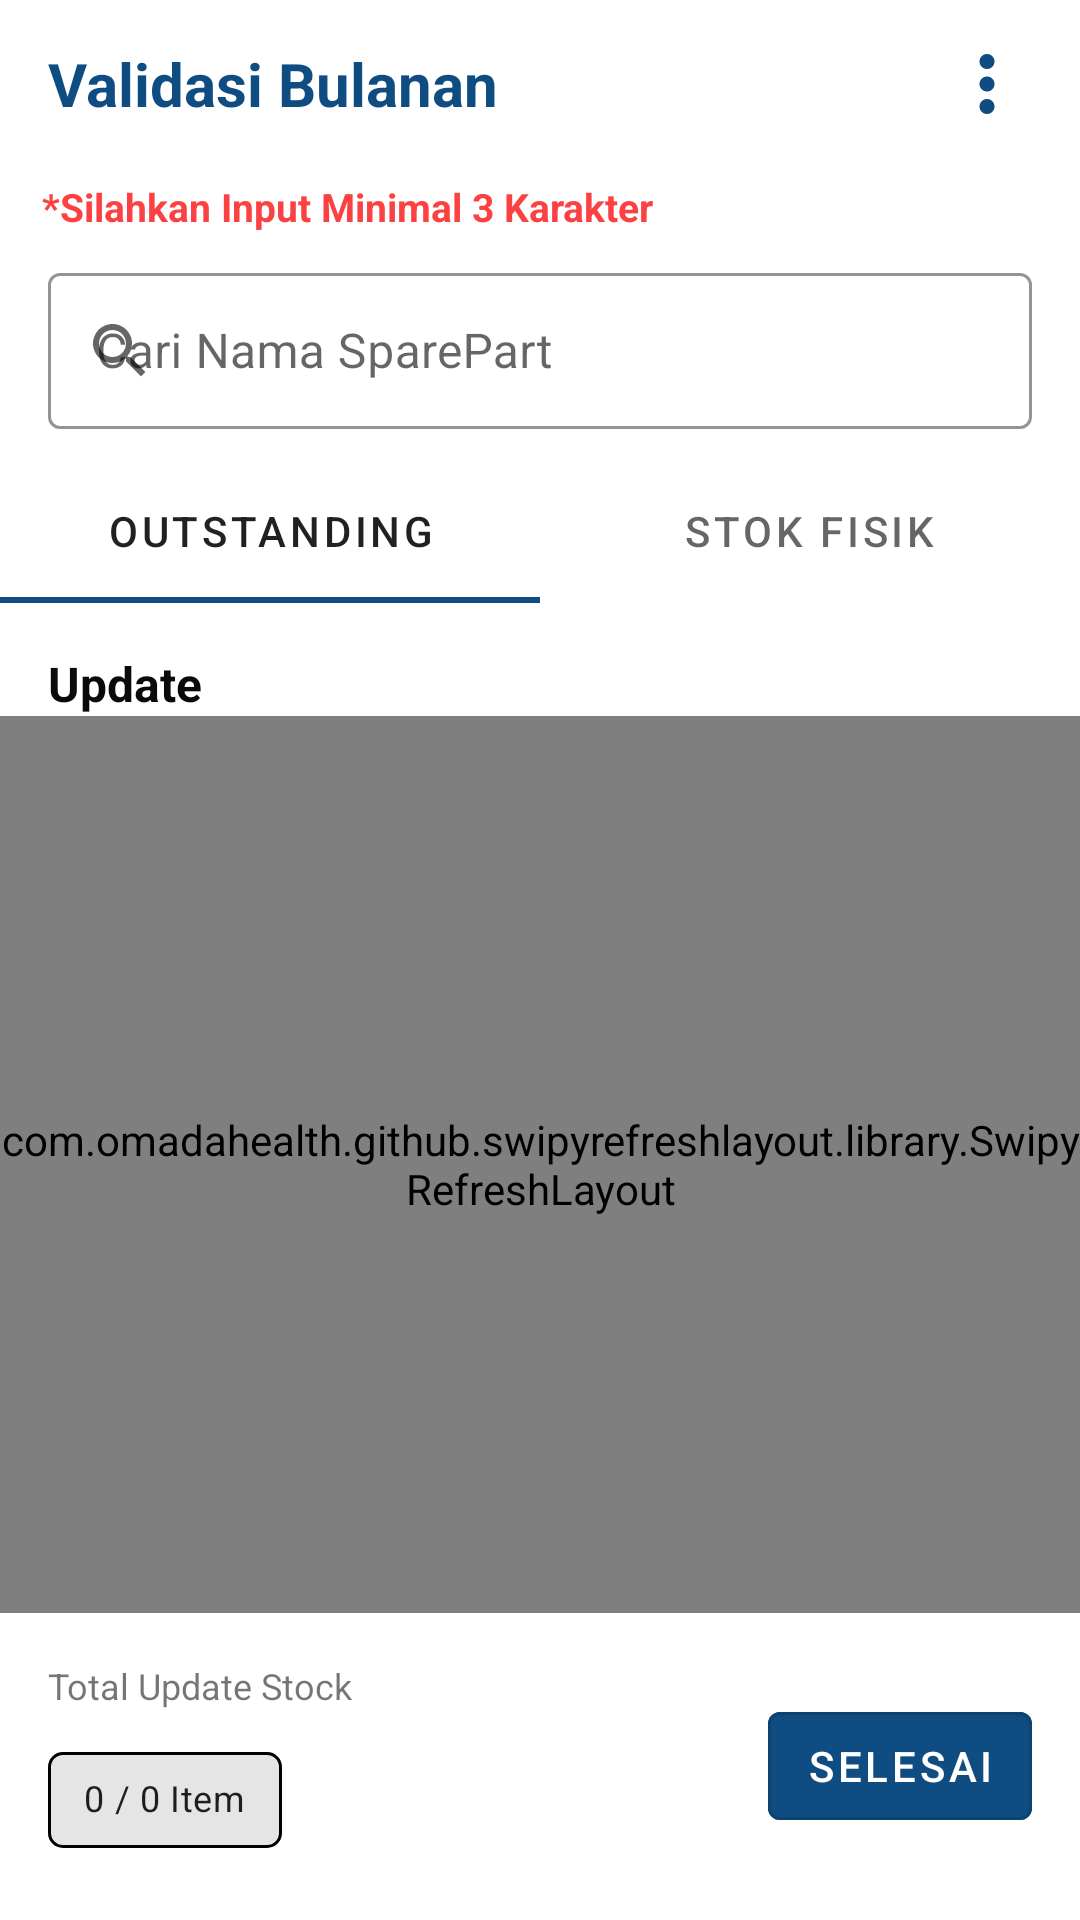

Screen size 1080×1920. Icon name, then its center in pixels as (x=x, y=y):
more vert: (x=987, y=84)
